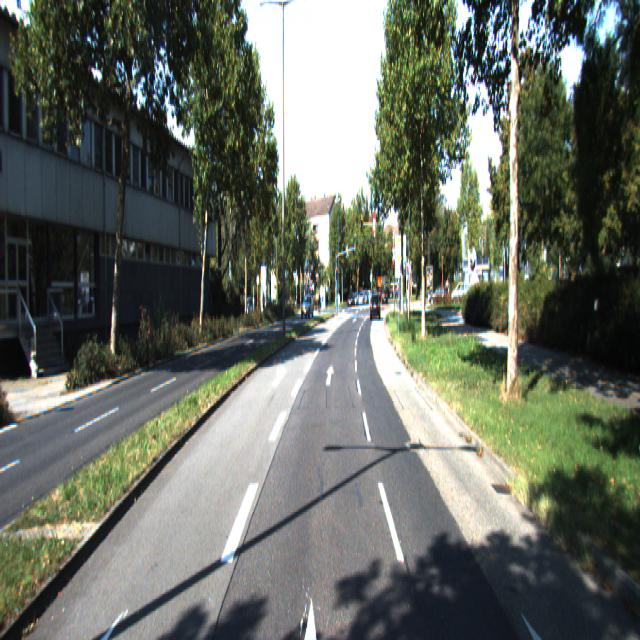Car: (301, 294, 314, 319), (370, 292, 381, 319)
